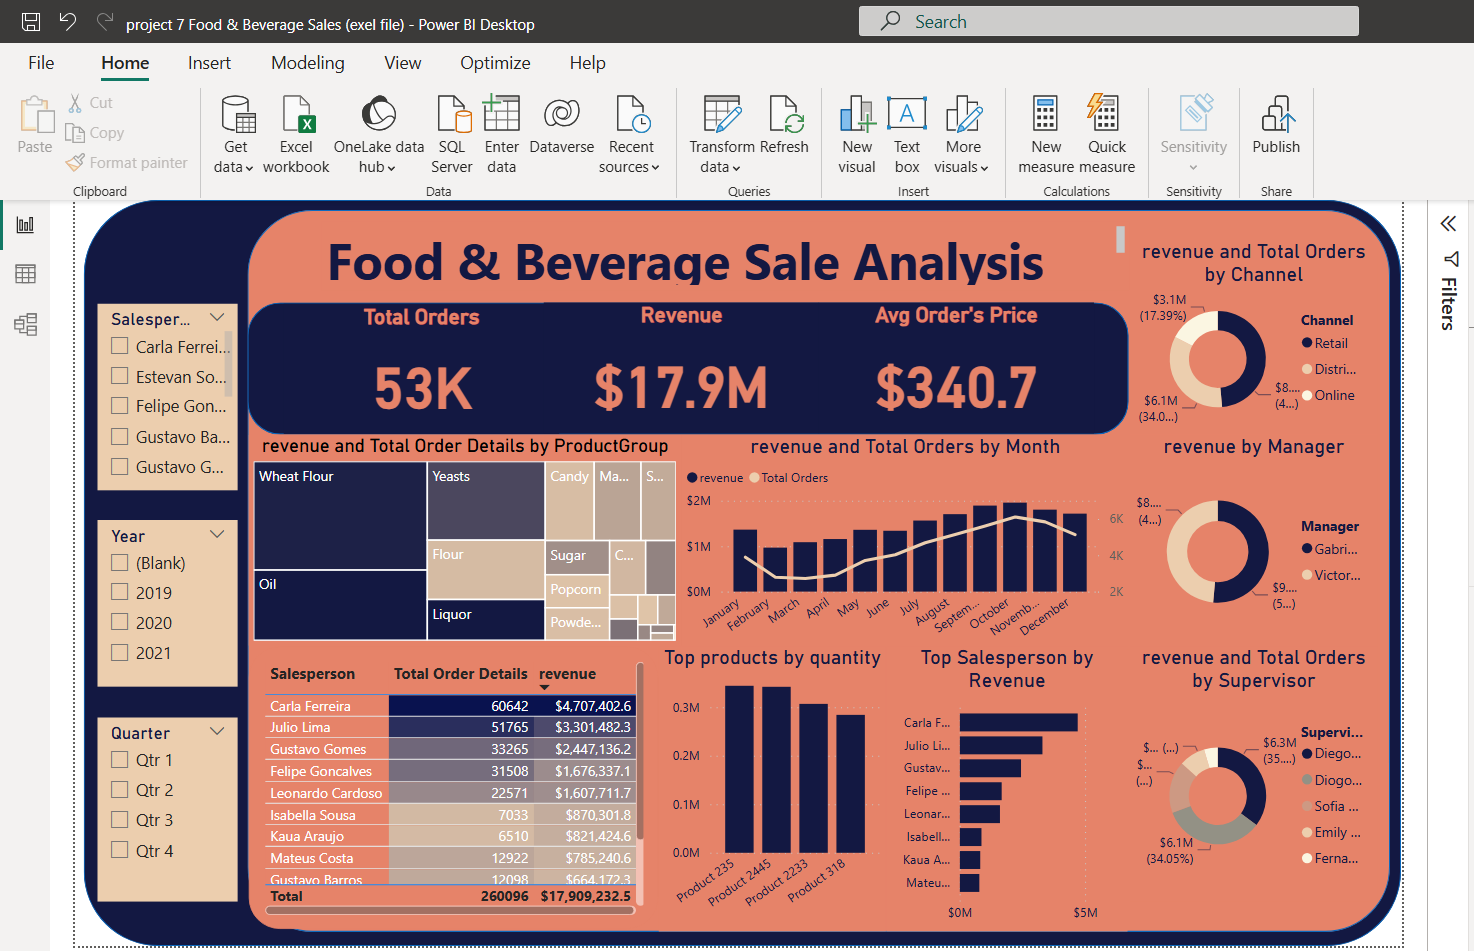

This screenshot's page, from the dashboard's own definition file:
{"tool":"powerbi","page":{"name":"Page 1","canvas":[1280,720],"ordinal":0},"visuals":[{"type":"shape","box":[9,0.2,1271,719.8],"z":0},{"type":"shape","box":[166.7,9.8,1102.3,696.5],"z":1000},{"type":"shape","box":[166.7,98.9,850,127.5],"z":2000},{"type":"card","title":"Total Orders","fields":{"Values":["Dax Measure.Total Orders"]},"box":[201.8,99.6,265.9,125.5],"z":3000},{"type":"card","title":"Revenue","fields":{"Values":["Dax Measure.revenue"]},"box":[451.9,98.9,266,126.1],"z":4000},{"type":"card","title":"Avg Order''s Price","fields":{"Values":["Dax Measure.AVG Order's Price"]},"box":[717.9,98.9,266,126.1],"z":5000},{"type":"donutChart","fields":{"Category":["Orders.Channel"],"Y":["Dax Measure.revenue"]},"box":[1017.3,38.8,238.8,186.9],"z":6000},{"type":"donutChart","fields":{"Y":["Dax Measure.revenue"],"Category":["Orders.Supervisor"]},"box":[1017.3,430.7,238.8,246],"z":7000},{"type":"donutChart","fields":{"Y":["Dax Measure.revenue"],"Category":["Orders.Manager"]},"box":[1017.3,226.9,238.8,203.8],"z":8000},{"type":"lineClusteredColumnComboChart","fields":{"Category":["Orders.OrderDate.Variation.Date Hierarchy.Year","Orders.OrderDate.Variation.Date Hierarchy.Quarter","Orders.OrderDate.Variation.Date Hierarchy.Month","Orders.OrderDate.Variation.Date Hierarchy.Day"],"Y":["Dax Measure.revenue"],"Y2":["Dax Measure.Total Orders"]},"box":[585,226.4,432.3,207.3],"z":9000},{"type":"treemap","fields":{"Group":["Product.ProductCategory","Product.ProductGroup"],"Values":["Dax Measure.revenue"]},"box":[167.7,226.4,417.3,203.2],"z":10000},{"type":"barChart","title":"Top Salesperson by Revenue ","fields":{"Y":["Dax Measure.revenue"],"Category":["Orders.Salesperson"]},"box":[782.8,430.9,233.2,275.5],"z":11000},{"type":"columnChart","title":"Top products by quantity","fields":{"Y":["Orders.Quantity"],"Category":["Product.ProductName"]},"box":[563.2,430.9,219.6,275.5],"z":12000},{"type":"tableEx","fields":{"Values":["Orders.Salesperson","Dax Measure.Total Order Details","Dax Measure.revenue"]},"box":[167.7,430.9,395.5,272.7],"z":13000},{"type":"slicer","fields":{"Values":["Orders.OrderDate.Variation.Date Hierarchy.Year"]},"box":[21.8,308.2,135,160.9],"z":14000},{"type":"slicer","fields":{"Values":["Orders.Salesperson"]},"box":[21.8,99.6,135,180],"z":15000},{"type":"slicer","fields":{"Values":["Orders.OrderDate.Variation.Date Hierarchy.Quarter"]},"box":[21.8,499.1,135,177.3],"z":16000},{"type":"textbox","box":[237.3,20.5,780.1,66.8],"z":16001}]}

Visuals, with their boxes on the page's 1280x720 design canvas (x1, y1, x2, y2). These are canvas units, not pixel positions in the 1474x951 screenshot, which may show the page scaled, cropped or inside an application window:
shape: [9,0,1280,720]
shape: [167,10,1269,706]
shape: [167,99,1017,226]
"Total Orders" card: [202,100,468,225]
"Revenue" card: [452,99,718,225]
"Avg Order''s Price" card: [718,99,984,225]
donutChart - Orders.Channel x Dax Measure.revenue: [1017,39,1256,226]
donutChart - Dax Measure.revenue x Orders.Supervisor: [1017,431,1256,677]
donutChart - Dax Measure.revenue x Orders.Manager: [1017,227,1256,431]
lineClusteredColumnComboChart - Orders.OrderDate.Variation.Date Hierarchy.Year x Orders.OrderDate.Variation.Date Hierarchy.Quarter: [585,226,1017,434]
treemap - Product.ProductCategory x Product.ProductGroup: [168,226,585,430]
"Top Salesperson by Revenue " barChart: [783,431,1016,706]
"Top products by quantity" columnChart: [563,431,783,706]
tableEx - Orders.Salesperson x Dax Measure.Total Order Details: [168,431,563,704]
slicer - Orders.OrderDate.Variation.Date Hierarchy.Year: [22,308,157,469]
slicer - Orders.Salesperson: [22,100,157,280]
slicer - Orders.OrderDate.Variation.Date Hierarchy.Quarter: [22,499,157,676]
textbox: [237,20,1017,87]
